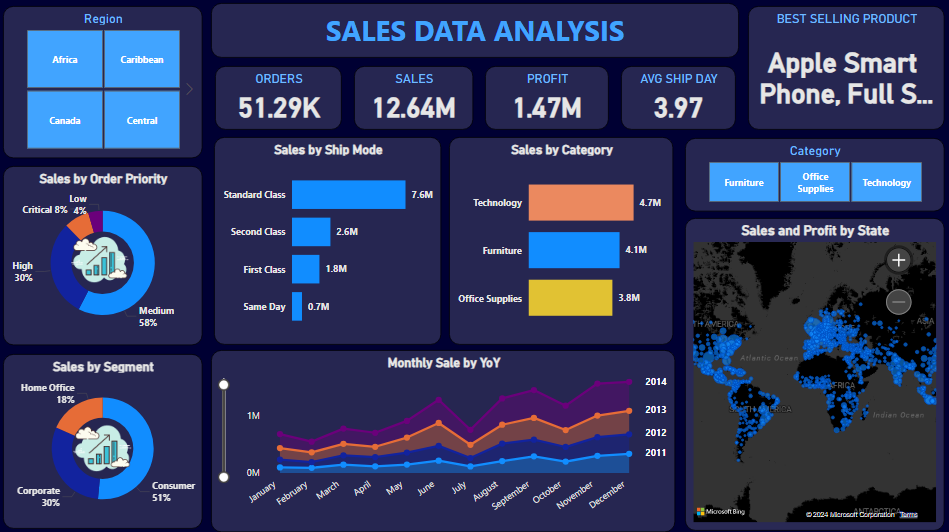

What the dashboard file says about the page in this screenshot:
{"tool":"powerbi","page":{"name":"DashBoard","canvas":[1280,720],"ordinal":0},"visuals":[{"type":"clusteredBarChart","title":"Sales by Category","fields":{"Category":["Orders.Category"],"Y":["Sum(Orders.Sales)"]},"box":[603.9,185.8,299.4,277.4],"z":0},{"type":"clusteredBarChart","title":"Sales by Ship Mode","fields":{"Category":["Orders.Ship Mode"],"Y":["Sum(Orders.Sales)"]},"box":[290.3,185.8,303.2,277.4],"z":1000},{"type":"stackedAreaChart","title":"Monthly Sale by YoY","fields":{"Series":["Orders.Order Date.Variation.Date Hierarchy.Year"],"Category":["Orders.Order Date.Variation.Date Hierarchy.Month","Orders.Order Date.Variation.Date Hierarchy.Day"],"Y":["Sum(Orders.Sales)"]},"box":[287.2,469.7,619.4,242.6],"z":2000},{"type":"map","title":"Sales and Profit by State","fields":{"Category":["Orders.State"],"Size":["Sum(Orders.Sales)"]},"box":[918.7,292.9,345.8,417],"z":3000},{"type":"donutChart","title":"Sales by Segment","fields":{"Category":["Orders.Segment"],"Y":["Sum(Orders.Sales)"]},"box":[9.3,474.5,265.8,232.6],"z":4000},{"type":"donutChart","title":"Sales by Order Priority","fields":{"Y":["Sum(Orders.Sales)"],"Category":["Orders.Order Priority"]},"box":[9.3,224.6,265.8,239.3],"z":5000},{"type":"slicer","title":"Category","fields":{"Values":["Orders.Category"]},"box":[918.5,186.1,345.6,98.4],"z":6000},{"type":"textbox","box":[287.1,7,704.5,73],"z":7000},{"type":"card","title":"ORDERS","fields":{"Values":["CountNonNull(Orders.Order ID)"]},"box":[291.4,90.3,169,85.2],"z":8000},{"type":"card","title":"SALES","fields":{"Values":["Sum(Orders.Sales)"]},"box":[476.7,90.3,158.7,85.2],"z":9000},{"type":"card","title":"PROFIT","fields":{"Values":["Sum(Orders.Profit)"]},"box":[651.7,90.3,165.2,85.2],"z":10000},{"type":"card","title":"AVG SHIP DAY","fields":{"Values":["Avg(Orders.AvgDelivery)"]},"box":[833.1,90.4,152.9,85.1],"z":11000},{"type":"slicer","title":"Region","fields":{"Values":["Orders.Region"]},"box":[9.3,10.6,265.8,203.4],"z":12000},{"type":"card","title":"BEST SELLING PRODUCT","fields":{"Values":["Orders.Top_Product_Name"]},"box":[1002.2,10.6,261.8,164.8],"z":13000},{"type":"image","box":[91,300,96,99],"z":14000},{"type":"image","box":[92.9,552.3,96.8,99.4],"z":15000}]}

Visuals, with their boxes in screenshot pixels (x1, y1, x2, y2), scaled from the page's 1280x720 canvas onto the 949x532 screenshot:
"Sales by Category" clusteredBarChart: 448:137:670:342
"Sales by Ship Mode" clusteredBarChart: 215:137:440:342
"Monthly Sale by YoY" stackedAreaChart: 213:347:672:526
"Sales and Profit by State" map: 681:216:938:525
"Sales by Segment" donutChart: 7:351:204:522
"Sales by Order Priority" donutChart: 7:166:204:343
"Category" slicer: 681:138:937:210
textbox: 213:5:735:59
"ORDERS" card: 216:67:341:130
"SALES" card: 353:67:471:130
"PROFIT" card: 483:67:606:130
"AVG SHIP DAY" card: 618:67:731:130
"Region" slicer: 7:8:204:158
"BEST SELLING PRODUCT" card: 743:8:937:130
image: 67:222:139:295
image: 69:408:141:482
